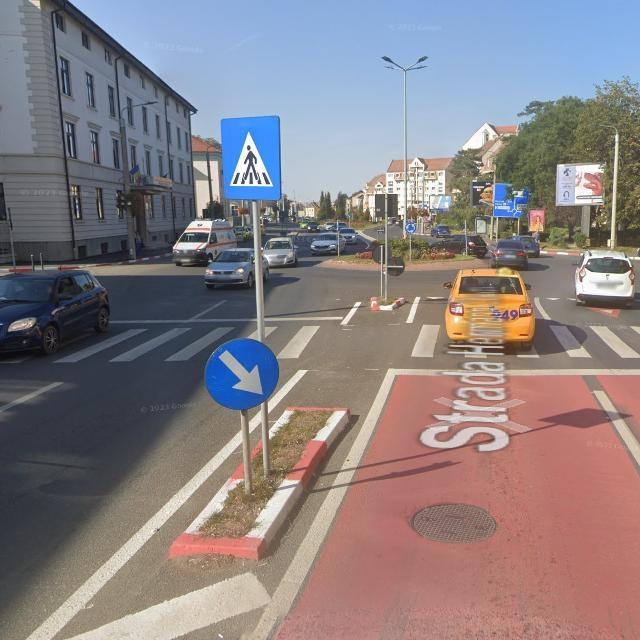info_crosswalk: (221, 119, 284, 204)
